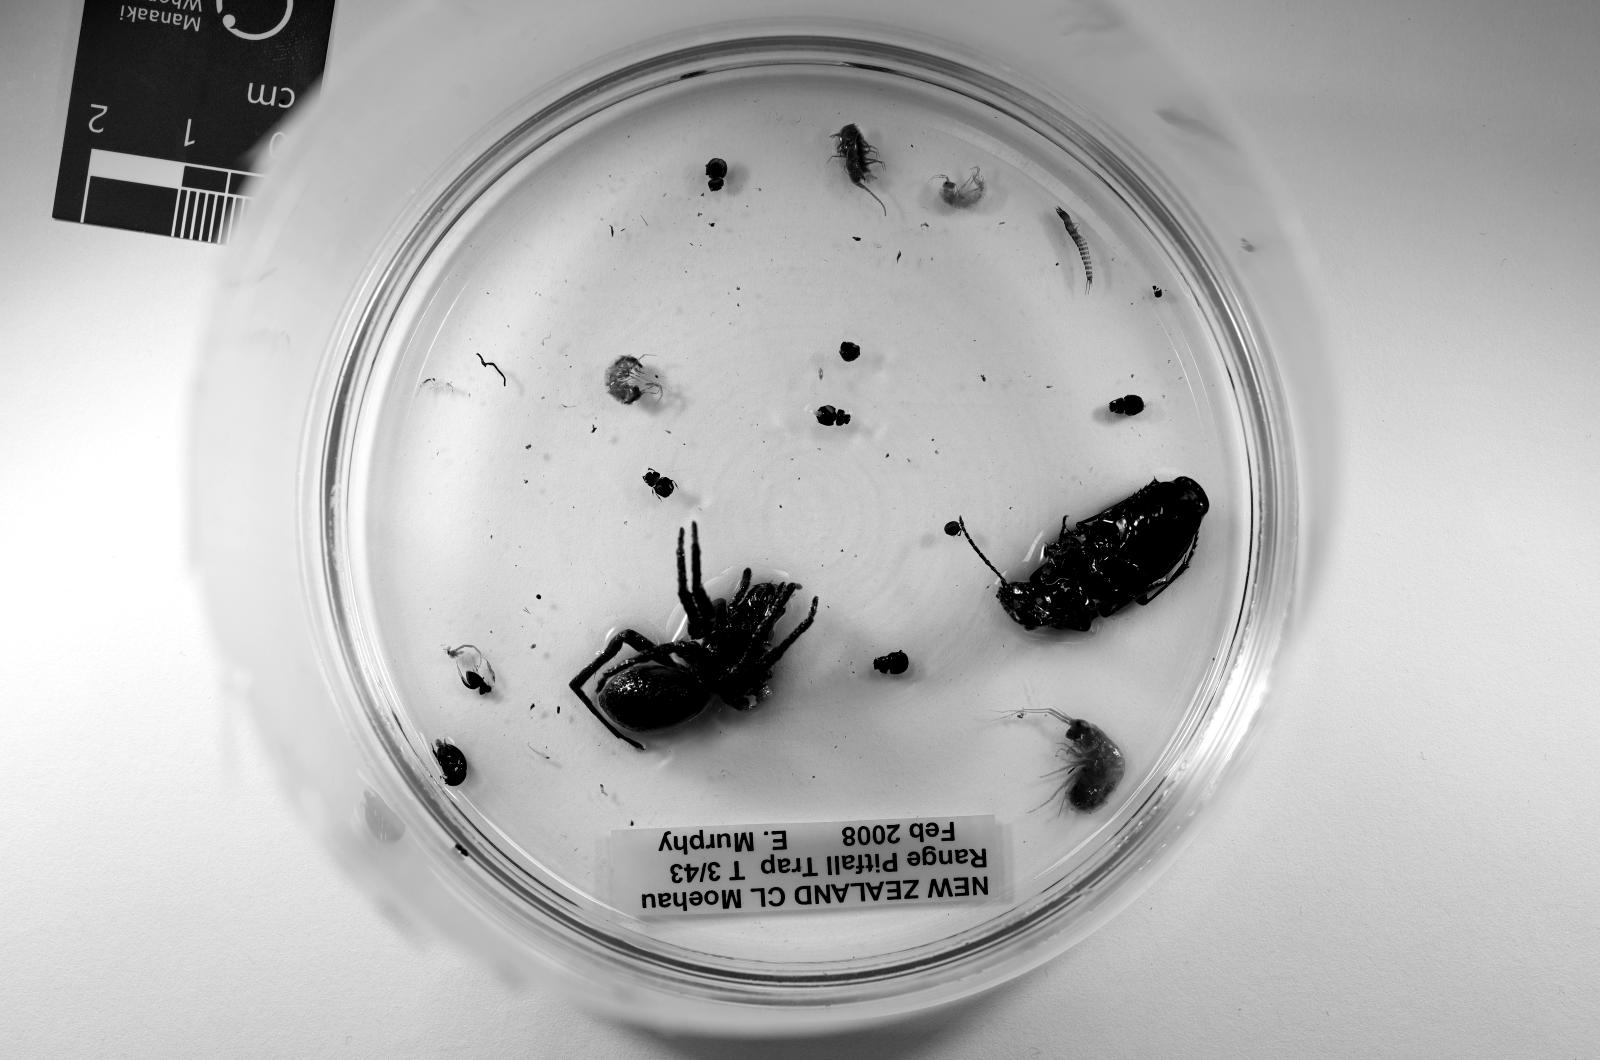amphipoda: (1010, 707, 1125, 814), (603, 354, 662, 403), (940, 168, 984, 208)
araneae: (569, 525, 818, 739)
carabidae: (974, 476, 1210, 631)
coleoptera: (434, 739, 466, 786), (643, 468, 675, 497), (875, 652, 909, 674), (816, 403, 850, 426), (1109, 394, 1144, 416), (706, 159, 728, 189)
